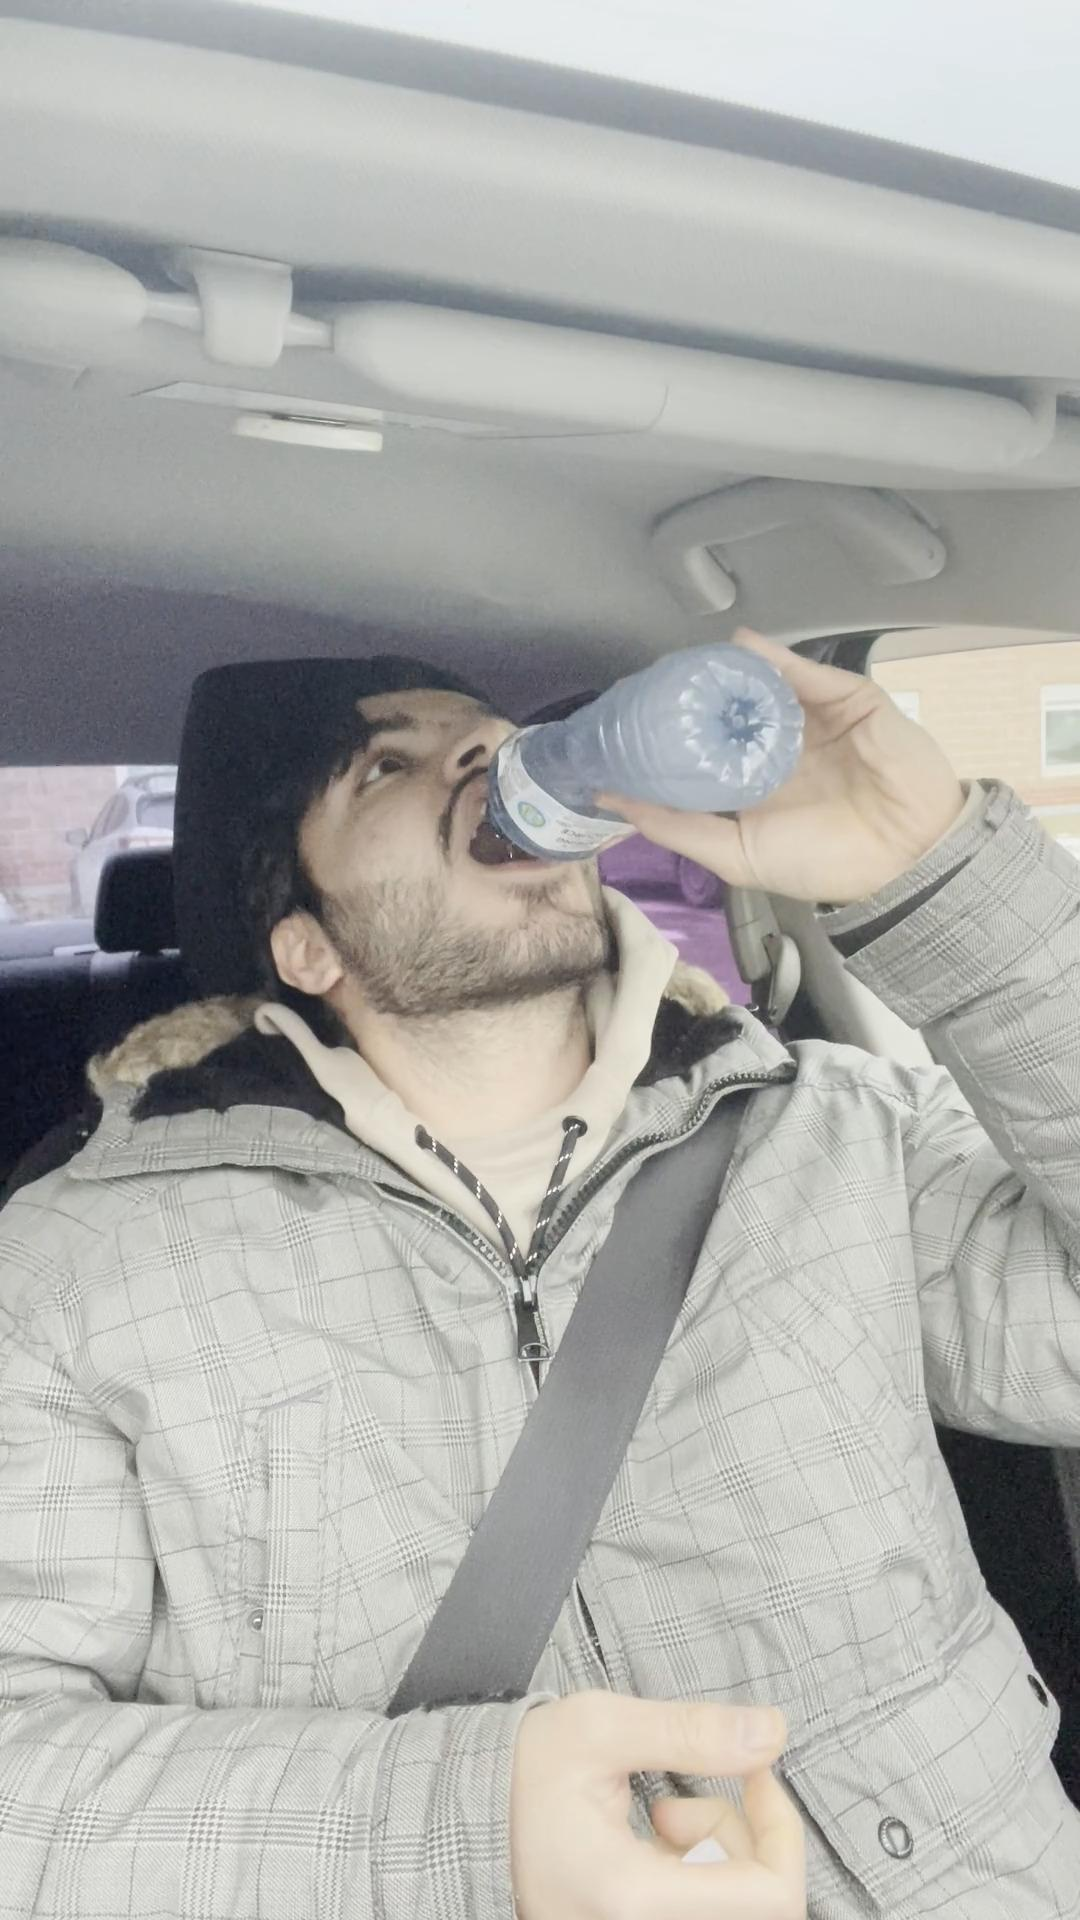drinking: (475, 645, 860, 865)
seatbelt: (127, 1040, 899, 1920)
